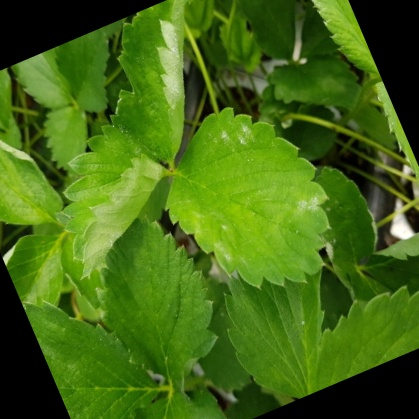Powdery_Leaf: (168, 122, 324, 316), (153, 0, 273, 165), (63, 90, 185, 226), (0, 9, 79, 210)
